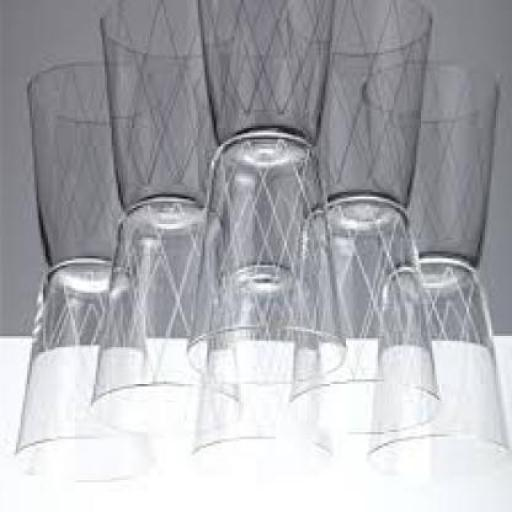glass: (196, 133, 350, 384), (291, 196, 444, 436), (100, 195, 246, 443), (18, 263, 157, 489), (371, 256, 510, 482), (192, 265, 336, 473)
